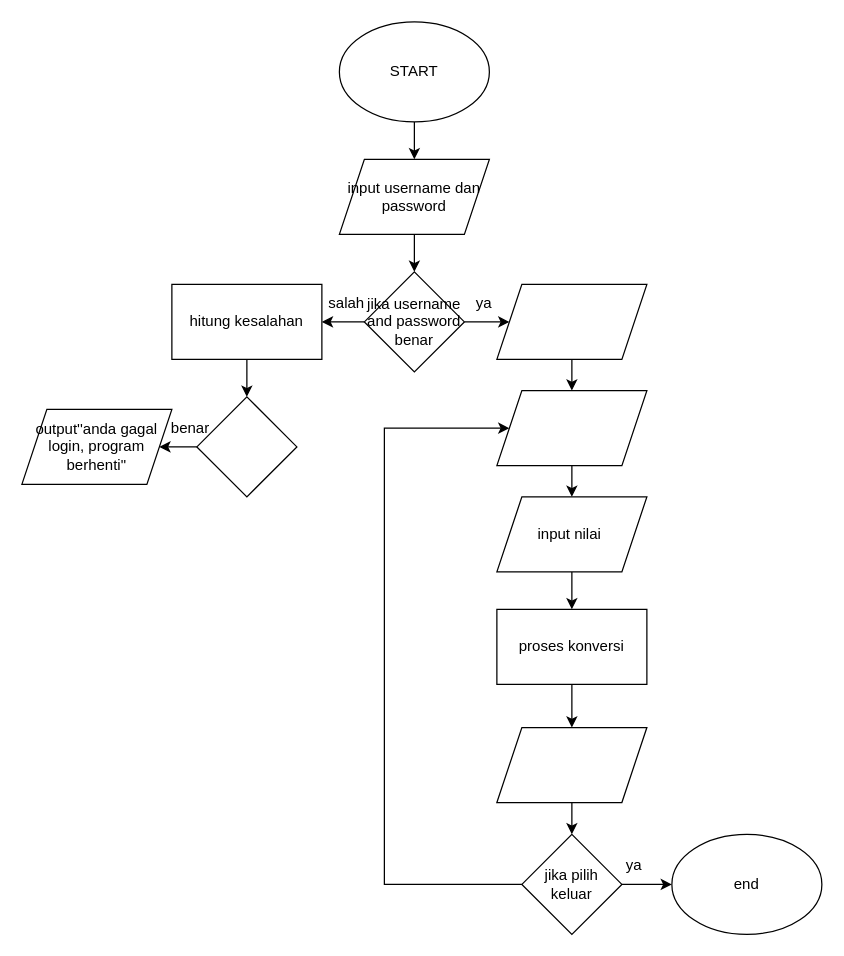
Image size: 844x956. Some labels were removed from this diagram. Each missing label, with the centre of its shape:
input pilih menu: point 571,427
jika 3 kali salah: point 246,446
ouput "menu konversi panjang": point 571,321
output "hasil": point 571,764
